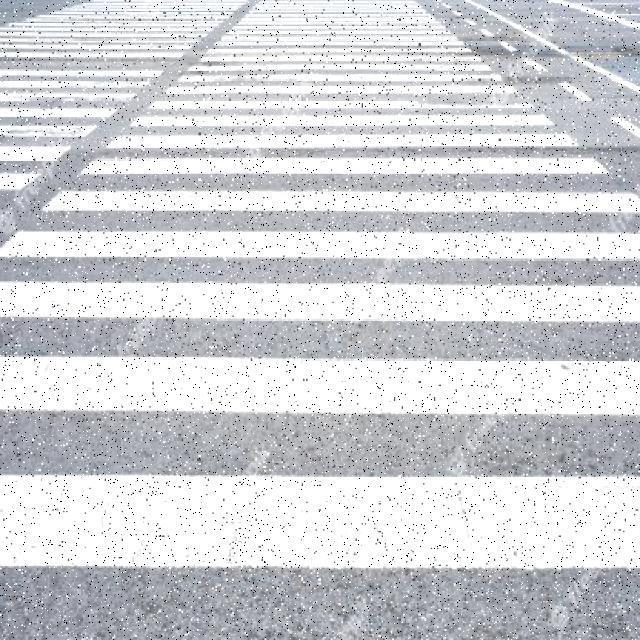Pedestrian crosswalk: (0, 0, 638, 597)
